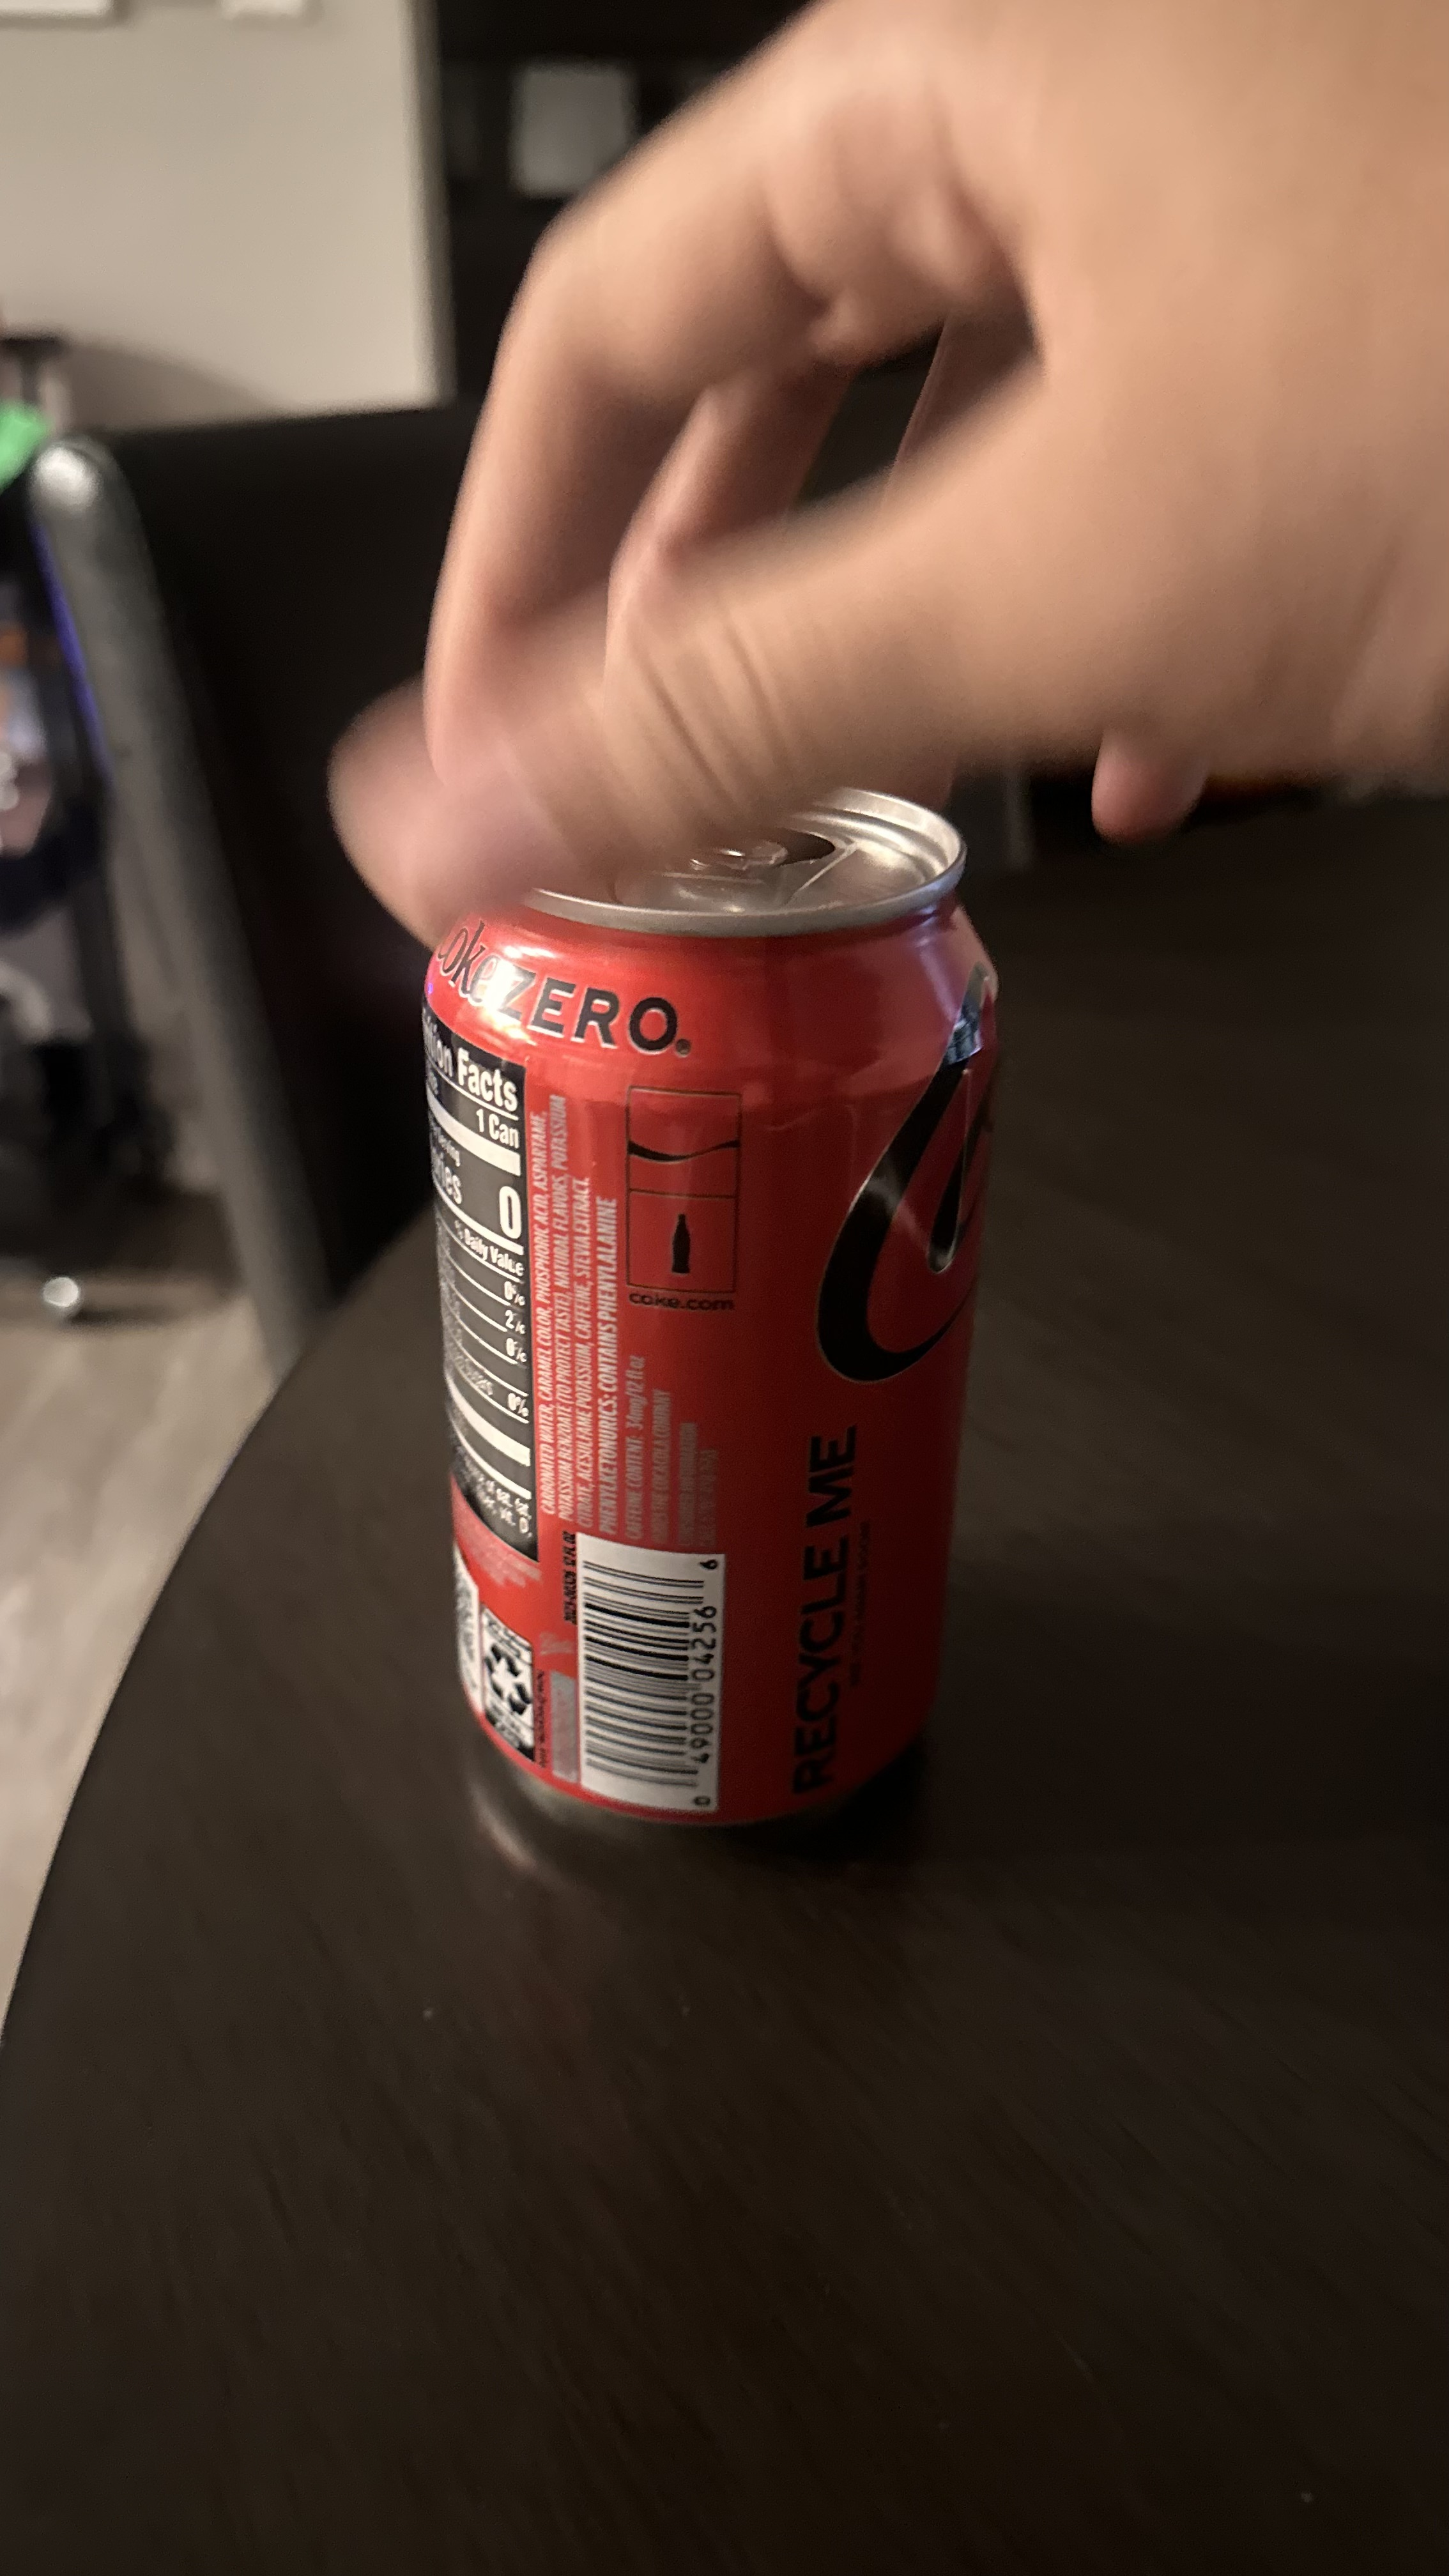Coke Zero: (391, 791, 1016, 1851)
